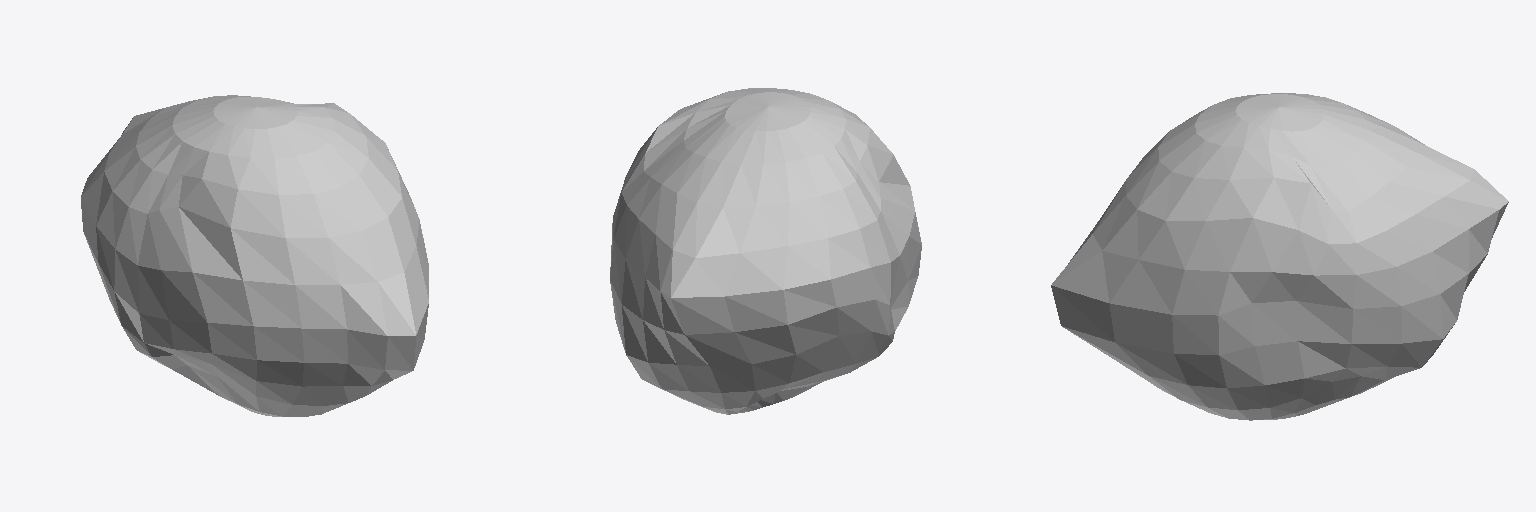
File: test_splat_particle.obj
3 views of the same model, side by side, from view 1: azimuth 30°, elevation 25°; view 2: azimuth 150°, elevation 25°; view 3: azimuth 270°, elevation 25° (orthographic).
Parts seen in each view (by area): view 1: Sphere; view 2: Sphere; view 3: Sphere.
Part boxes in pixels (left/top/right/bottom): Sphere: left=81, top=95, right=428, bottom=416; Sphere: left=610, top=88, right=921, bottom=414; Sphere: left=1051, top=93, right=1508, bottom=420.
Bounding box in the file's own units: 0.1816 × 0.1947 × 0.2718.